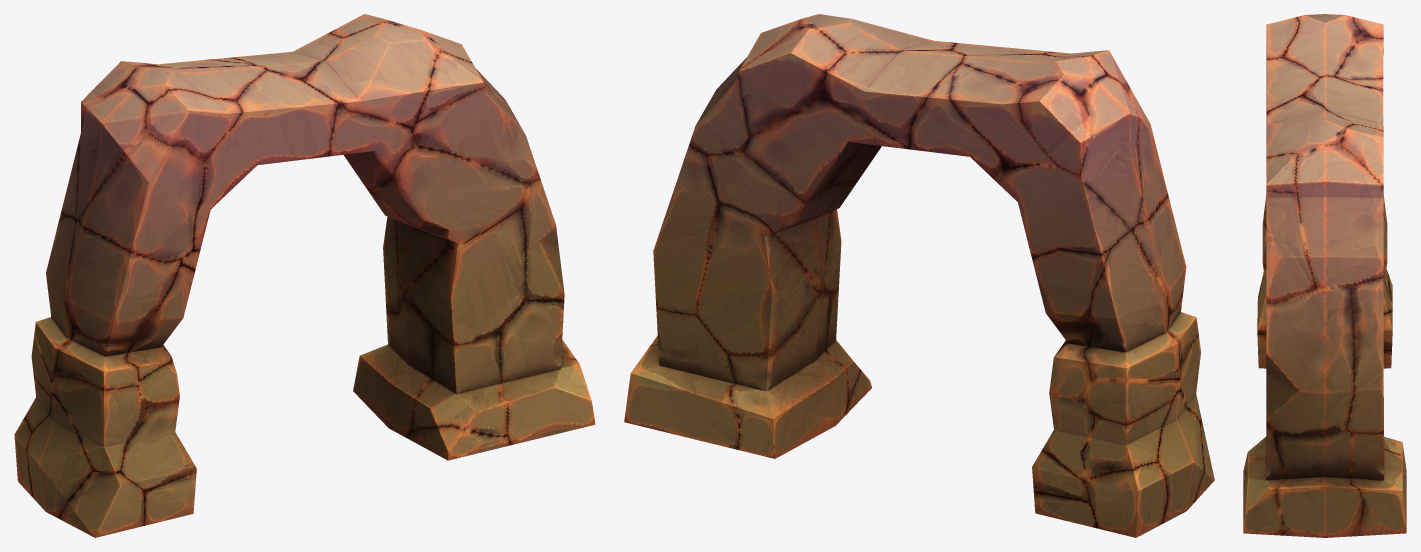
File: morerocks_2.fbx
The picture shows the model from 3 angles, left to right: view 1: azimuth 30°, elevation 25°; view 2: azimuth 150°, elevation 25°; view 3: azimuth 270°, elevation 25°; orthographic projection. The views are drawn at different scales.
Visible parts, largest first — view 1: Cube.004; view 2: Cube.004; view 3: Cube.004.
Boxes of the visible parts, x1,y1,x2,y2 form: Cube.004: (14, 14, 595, 537); Cube.004: (624, 14, 1214, 537); Cube.004: (1243, 14, 1406, 537).
Size of the model in its own units: 469 by 352 by 148.
1 material, 1 textured.
